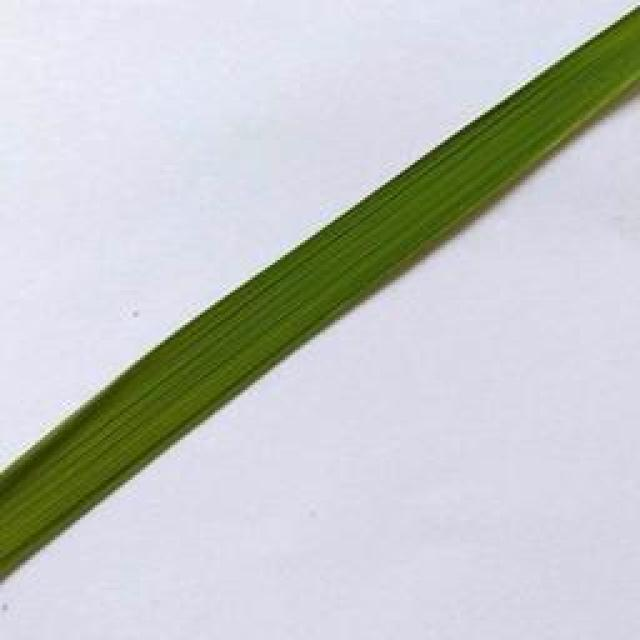Healthy-Plant: (0, 11, 640, 588)
